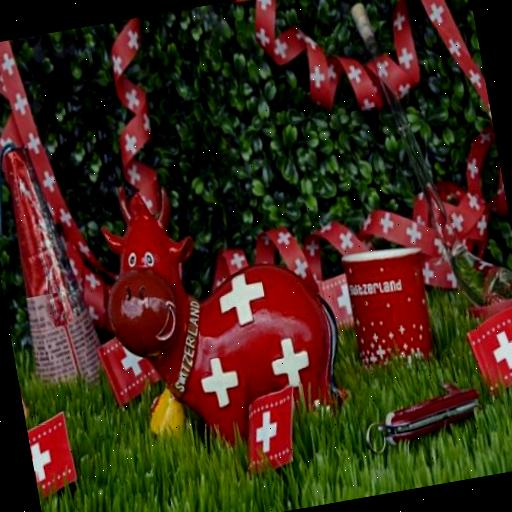cup: (340, 242, 440, 376)
